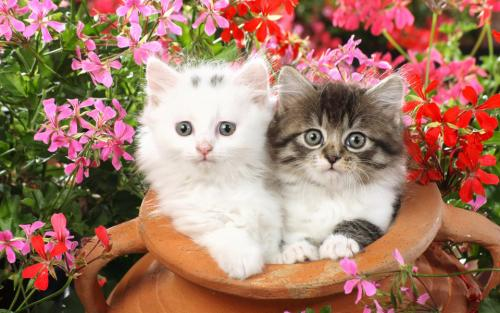cat: (278, 61, 410, 182), (140, 57, 274, 174)
